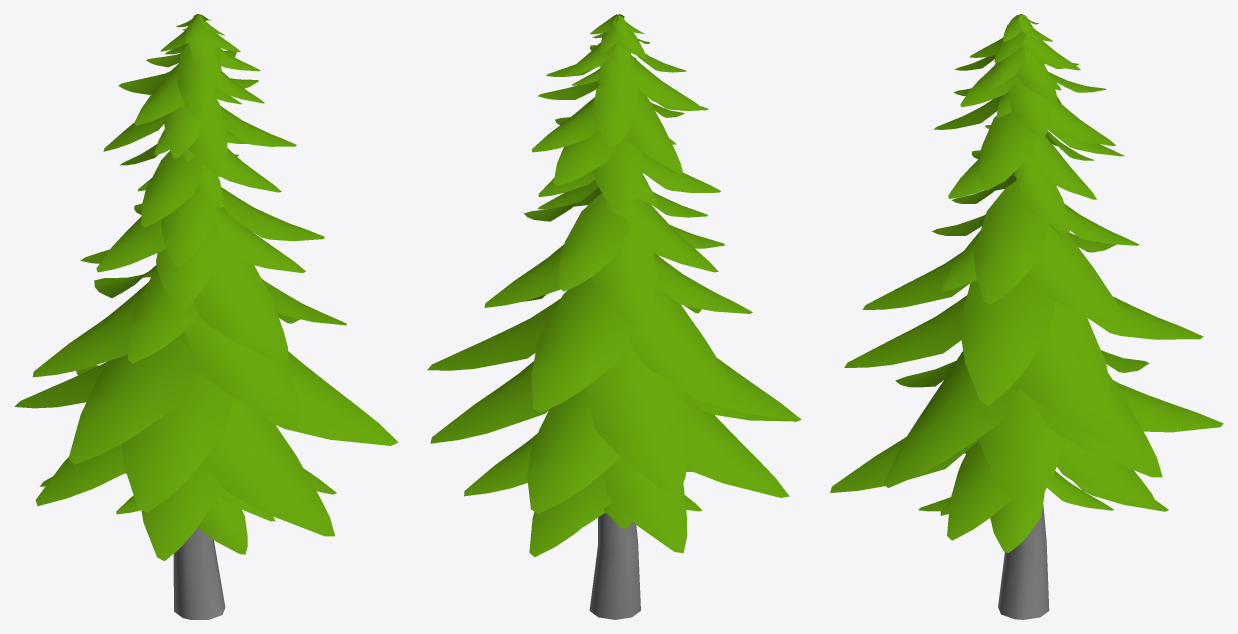
The model's file is SM_Sapin.FBX.
3 views of the same model, side by side, from view 1: azimuth 30°, elevation 25°; view 2: azimuth 150°, elevation 25°; view 3: azimuth 270°, elevation 25° (orthographic).
Parts seen in each view (by area): view 1: Cylinder013, Object009; view 2: Cylinder013, Object009; view 3: Cylinder013, Object009.
Boxes of the visible parts, x1,y1,x2,y2 form: Cylinder013: (14, 14, 398, 561); Object009: (173, 15, 225, 619); Cylinder013: (427, 14, 801, 557); Object009: (589, 15, 640, 619); Cylinder013: (830, 14, 1223, 553); Object009: (998, 178, 1049, 619).
Bounding box in the file's own units: 602 × 1092 × 657.
